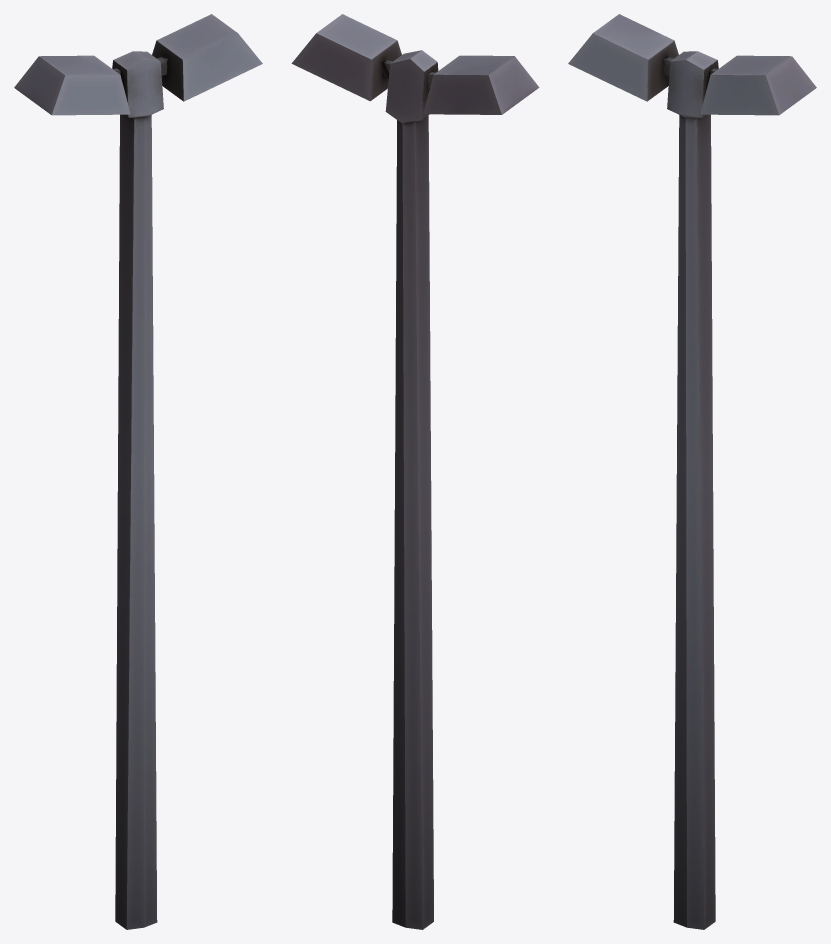
File: SM_Lighting_Pole.FBX
3 renders of one model, left to right at view 1: azimuth 30°, elevation 25°; view 2: azimuth 150°, elevation 25°; view 3: azimuth 330°, elevation 25°, orthographic.
Parts seen in each view (by area): view 1: SM_Lighting_Pole; view 2: SM_Lighting_Pole; view 3: SM_Lighting_Pole.
Boxes of the visible parts, x1,y1,x2,y2 form: SM_Lighting_Pole: (14, 14, 262, 929); SM_Lighting_Pole: (291, 14, 539, 929); SM_Lighting_Pole: (568, 14, 816, 929).
Bounding box in the file's own units: 232 × 71.77 × 923.
